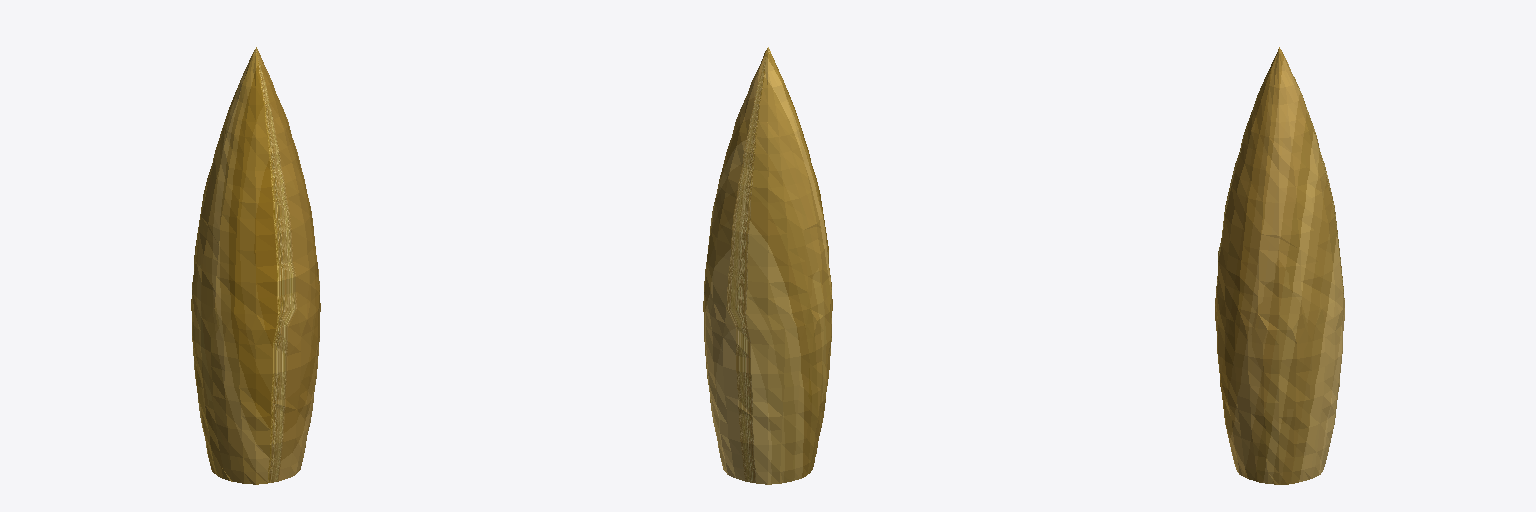
3 renders of one model, left to right at view 1: azimuth 30°, elevation 25°; view 2: azimuth 150°, elevation 25°; view 3: azimuth 270°, elevation 25°, orthographic.
Parts seen in each view (by area): view 1: 23; view 2: 23; view 3: 23.
Boxes of the visible parts, x1,y1,x2,y2 form: 23: [191, 47, 320, 484]; 23: [703, 47, 832, 484]; 23: [1215, 47, 1344, 484].
Bounding box in the file's own units: 0.0078 × 0.0281 × 0.0079.
Materials: 1 (1 with a texture image).